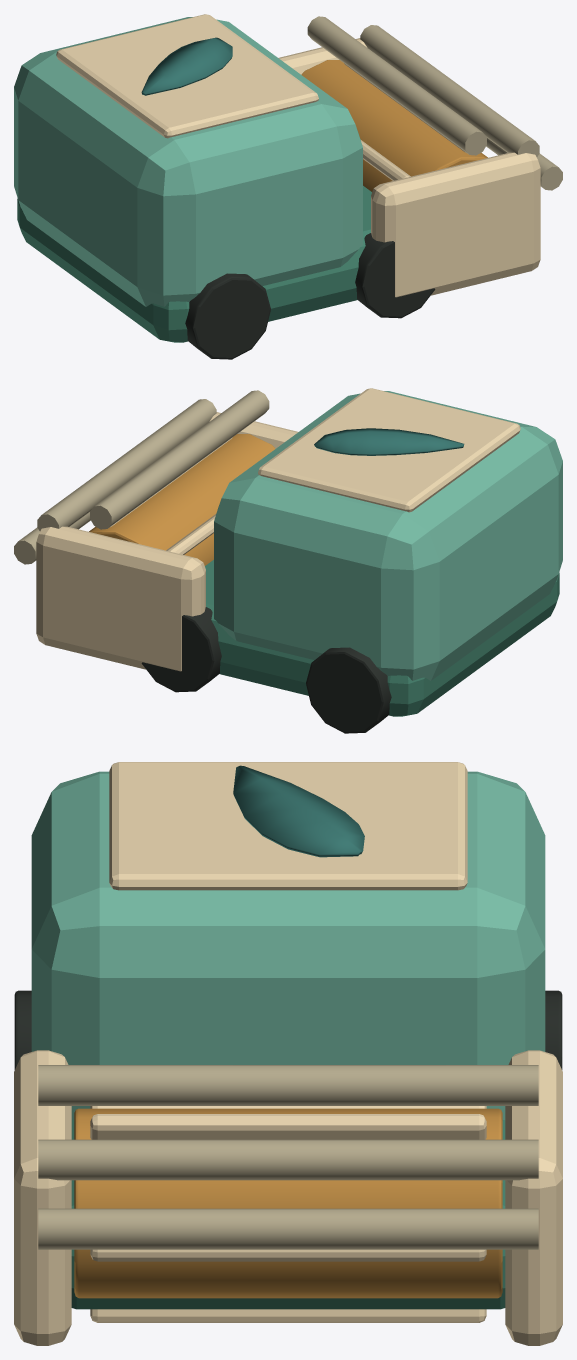
File: Mint_Harvester.fbx
3 renders of one model, top to bottom at view 1: azimuth 30°, elevation 25°; view 2: azimuth 150°, elevation 25°; view 3: azimuth 270°, elevation 25°, orthographic. The views are drawn at different scales.
Visible parts, largest first — view 1: Body, Wheels, CutterDrum; view 2: Body, Wheels, CutterDrum; view 3: Body, CutterDrum, Wheels.
Part boxes in pixels (bbox=[...]): Body: bbox=[14, 14, 562, 342]; Wheels: bbox=[185, 233, 435, 359]; CutterDrum: bbox=[301, 60, 487, 191]; Body: bbox=[14, 388, 562, 716]; Wheels: bbox=[141, 607, 391, 733]; CutterDrum: bbox=[89, 434, 275, 565]; Body: bbox=[14, 762, 562, 1345]; CutterDrum: bbox=[74, 1106, 502, 1322]; Wheels: bbox=[14, 990, 562, 1069].
Size of the model in its own units: 1.39 by 0.7507 by 1.03.
